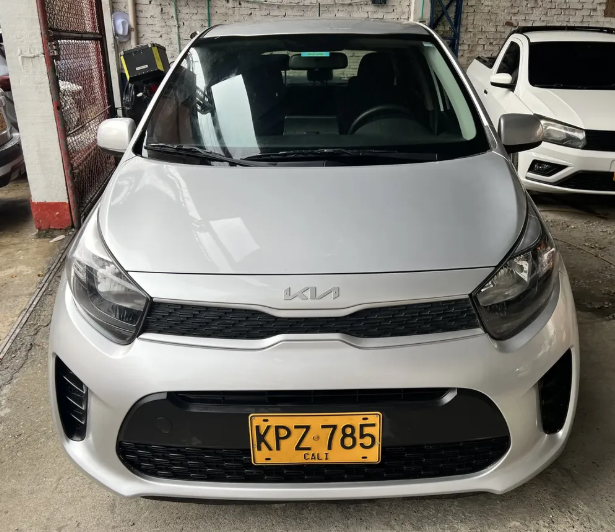placa: (249, 413, 382, 465)
